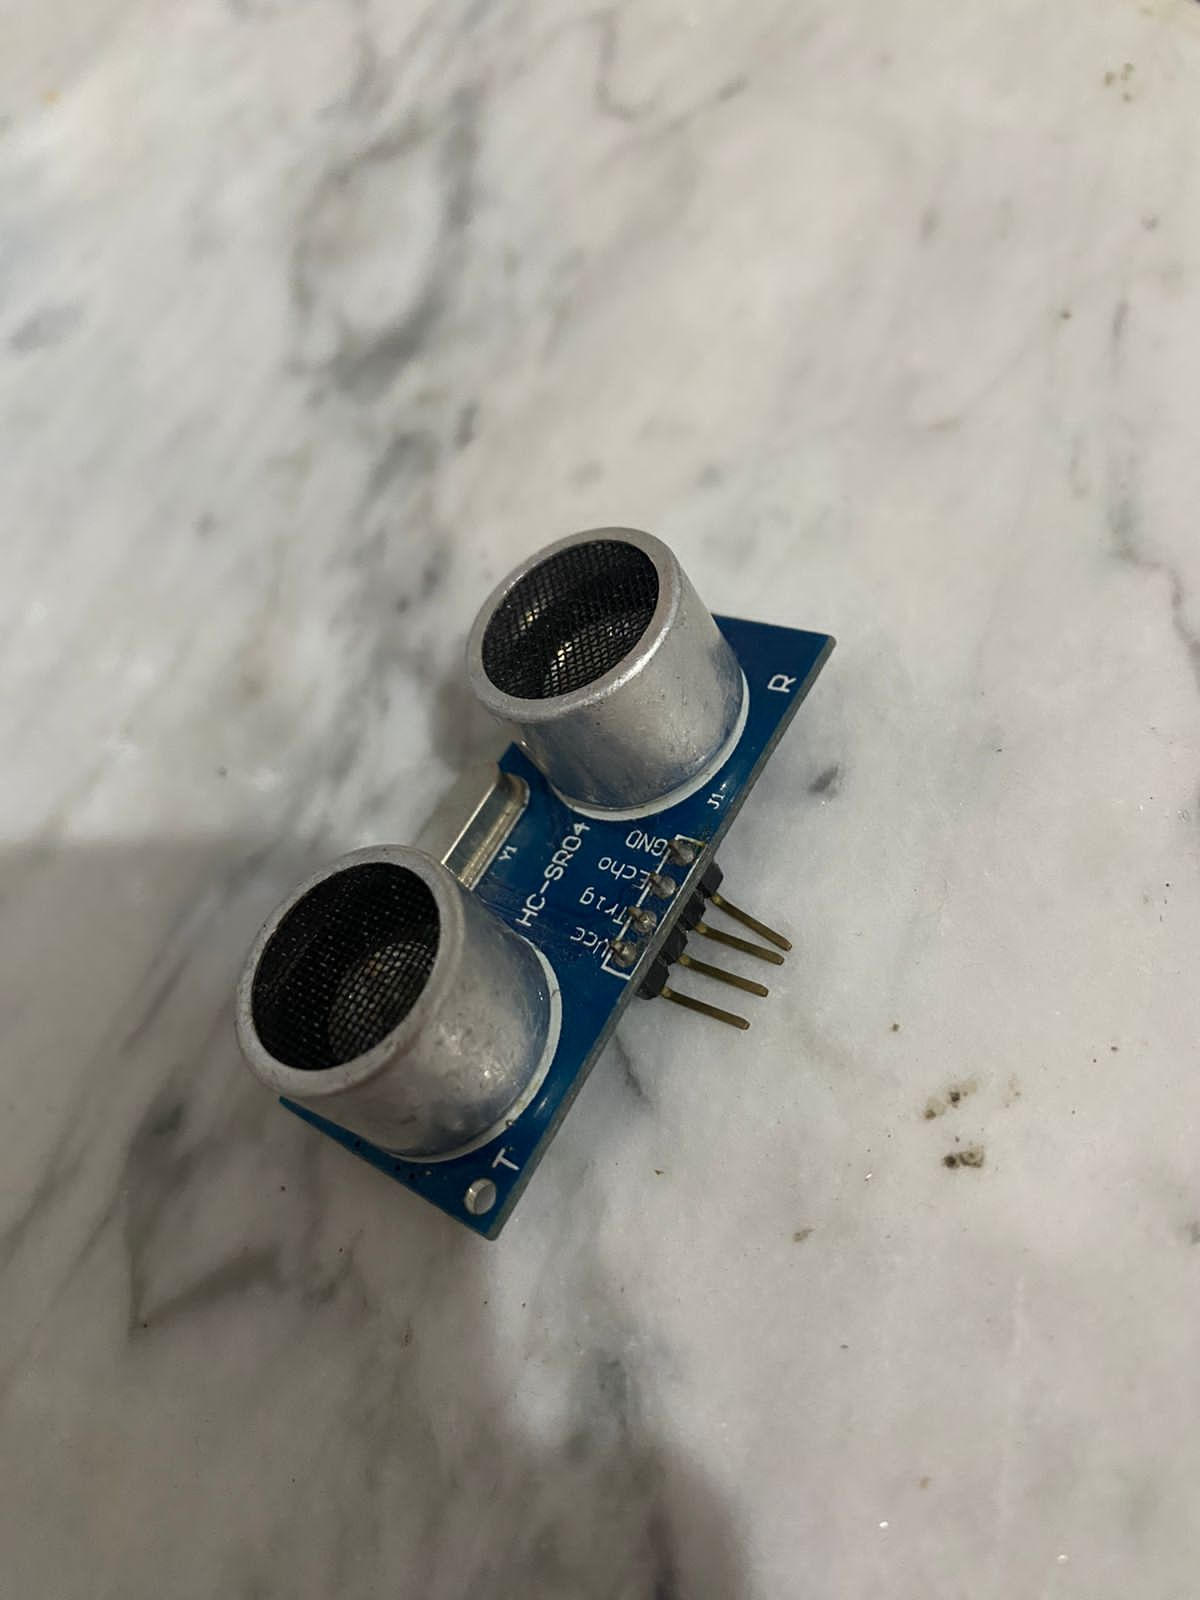capteur-ultrasonique: (239, 519, 861, 1264)
